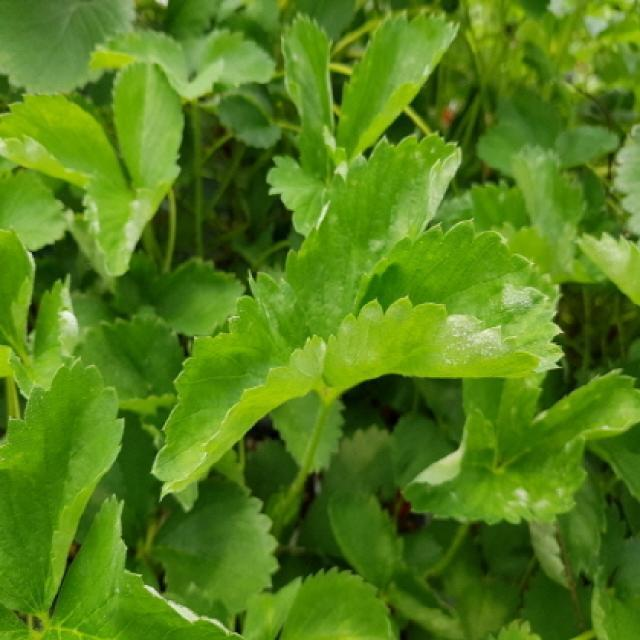powdery_mildew_leaf: (324, 218, 568, 394), (0, 60, 187, 278), (282, 130, 463, 341), (401, 367, 638, 527), (9, 273, 81, 404), (572, 228, 638, 305)
